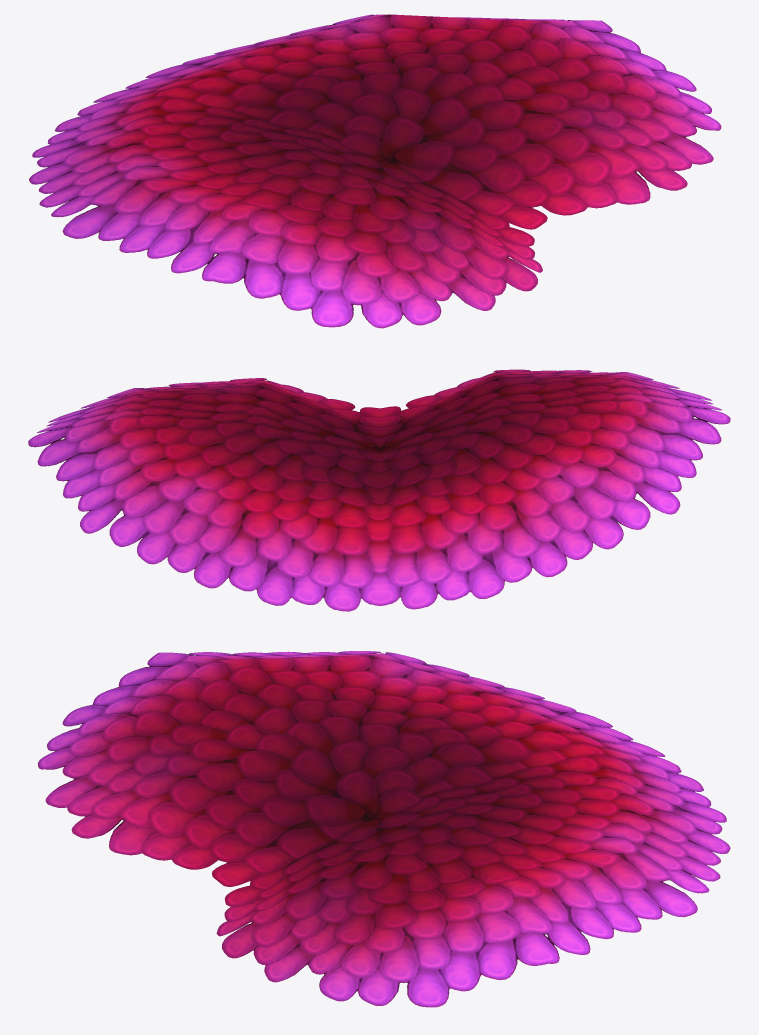
File: Coral_19.FBX
3 renders of one model, top to bottom at view 1: azimuth 30°, elevation 25°; view 2: azimuth 150°, elevation 25°; view 3: azimuth 270°, elevation 25°, orthographic. The views are drawn at different scales.
Visible parts, largest first — view 1: Coral_19; view 2: Coral_19; view 3: Coral_19.
Boxes of the visible parts, left/top/right/bottom form: Coral_19: left=29, top=14, right=721, bottom=328; Coral_19: left=28, top=369, right=730, bottom=611; Coral_19: left=38, top=651, right=730, bottom=1007.
Size of the model in its own units: 91.63 by 11.4 by 84.59.
